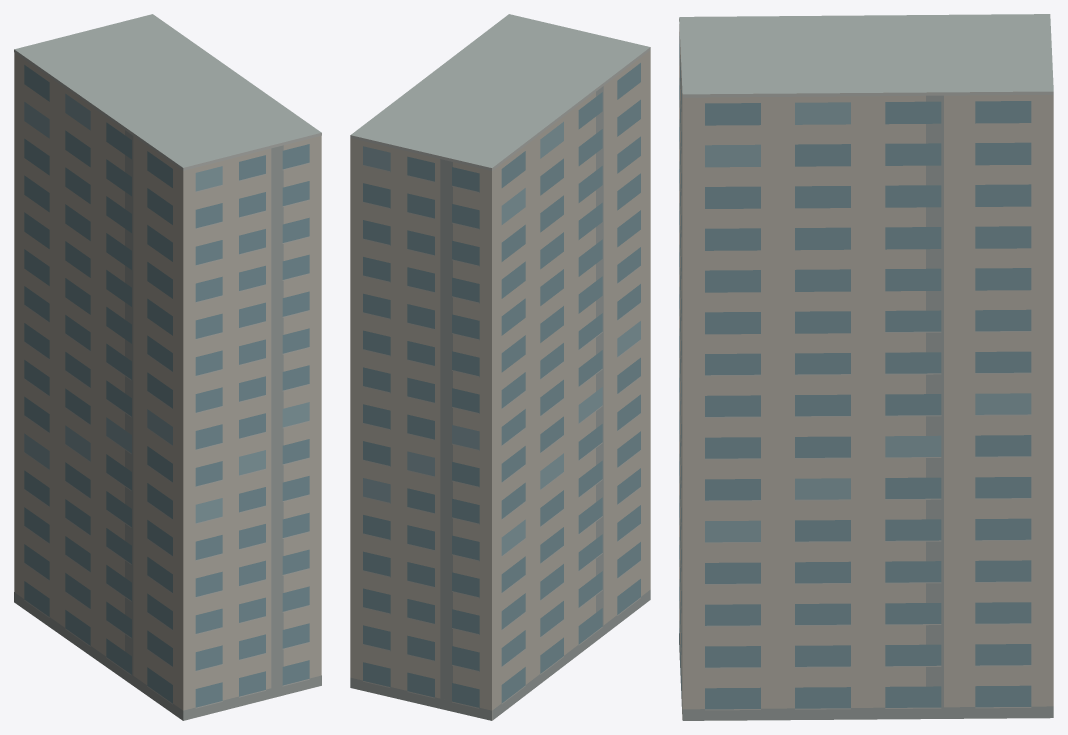
File: residential-84822604-c120-42be-af85-e6784e6a62f1.glb
3 renders of one model, left to right at view 1: azimuth 30°, elevation 25°; view 2: azimuth 150°, elevation 25°; view 3: azimuth 270°, elevation 25°, orthographic. The views are drawn at different scales.
Parts seen in each view (by area): view 1: residential-84822604-c120-42be-af85-e6784e6a62f1.tmp; view 2: residential-84822604-c120-42be-af85-e6784e6a62f1.tmp; view 3: residential-84822604-c120-42be-af85-e6784e6a62f1.tmp.
Boxes of the visible parts, bbox=[...] form: residential-84822604-c120-42be-af85-e6784e6a62f1.tmp: bbox=[14, 14, 321, 720]; residential-84822604-c120-42be-af85-e6784e6a62f1.tmp: bbox=[350, 14, 650, 720]; residential-84822604-c120-42be-af85-e6784e6a62f1.tmp: bbox=[679, 14, 1053, 720].
Size of the model in its own units: 12.66 by 46 by 24.94.
